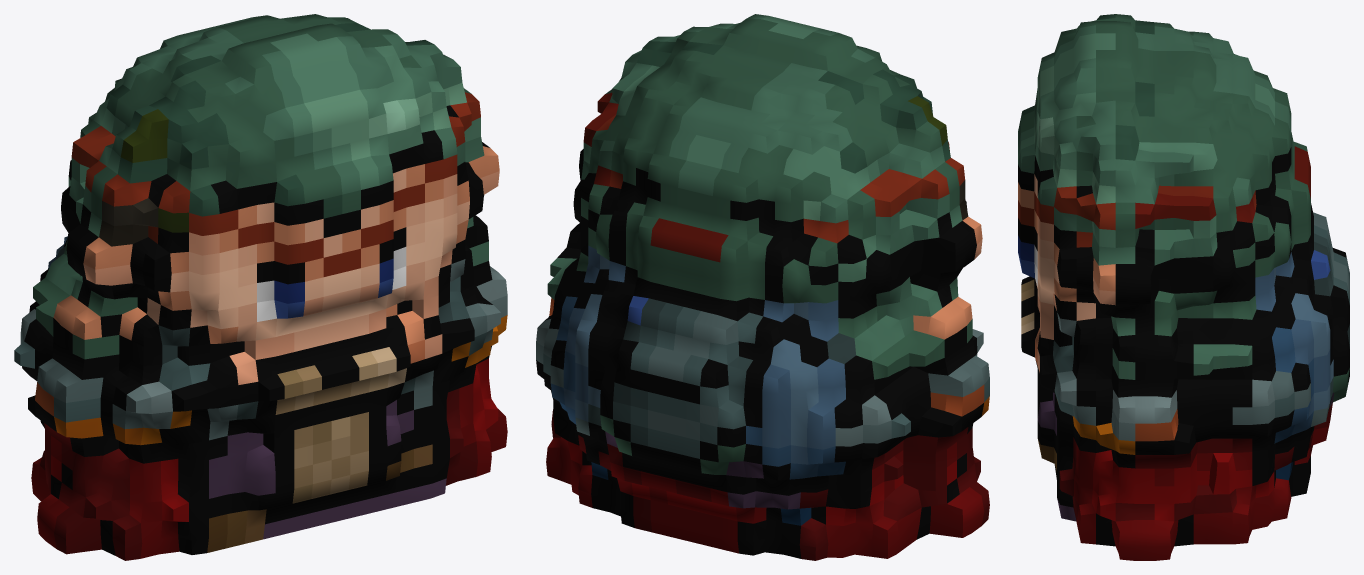
The model's file is Icon_027_03.obj.
3 renders of one model, left to right at view 1: azimuth 30°, elevation 25°; view 2: azimuth 150°, elevation 25°; view 3: azimuth 270°, elevation 25°, orthographic. The views are drawn at different scales.
Bounding box in the file's own units: 2.4 × 2.4 × 1.7.
